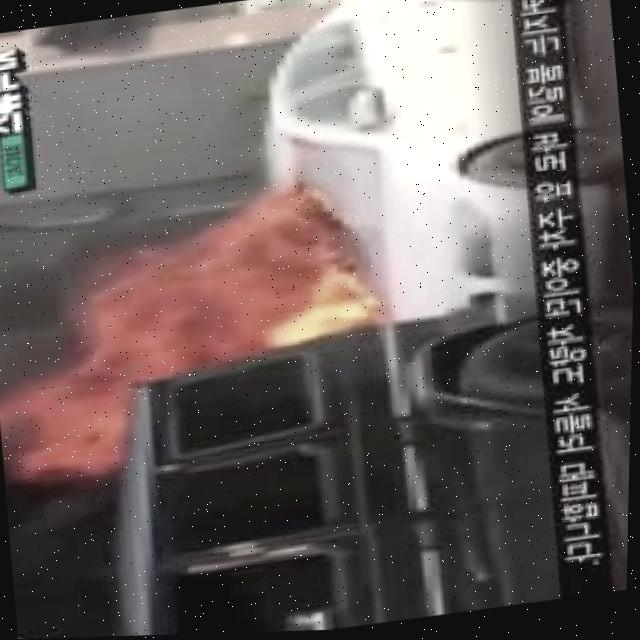Fire: (0, 155, 396, 502)
